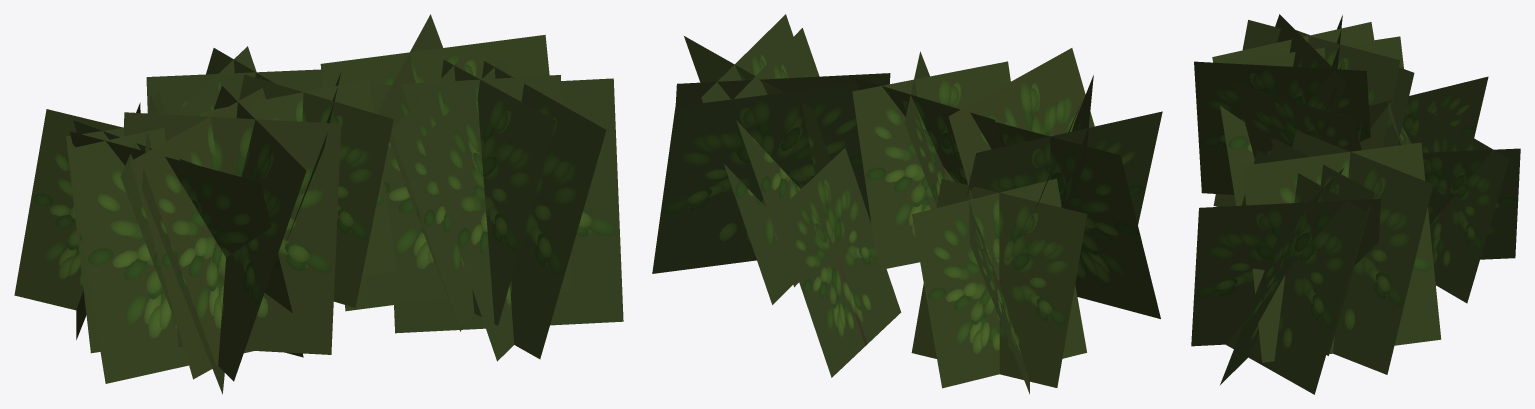
File: SM_Art_Veg_Shrub_2.gltf
3 views of the same model, side by side, from view 1: azimuth 30°, elevation 25°; view 2: azimuth 150°, elevation 25°; view 3: azimuth 270°, elevation 25° (orthographic). The views are drawn at different scales.
Parts seen in each view (by area): view 1: SM_Art_Veg_Shrub_2; view 2: SM_Art_Veg_Shrub_2; view 3: SM_Art_Veg_Shrub_2.
Boxes of the visible parts, x1,y1,x2,y2 form: SM_Art_Veg_Shrub_2: [14, 14, 623, 394]; SM_Art_Veg_Shrub_2: [652, 14, 1162, 394]; SM_Art_Veg_Shrub_2: [1191, 14, 1520, 394].
Size of the model in its own units: 3.05 by 1.39 by 2.14.
1 material, 1 textured.
